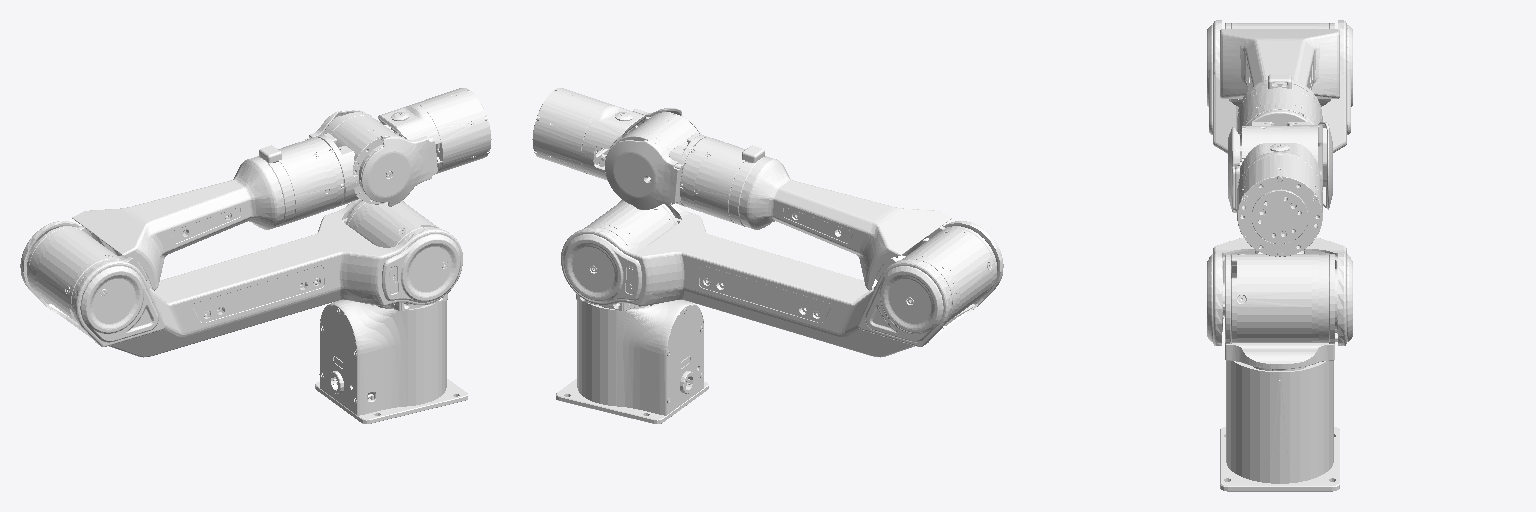
robot.urdf — piper_h_description:
<?xml version="1.0" encoding="utf-8"?>
<!-- This URDF was automatically created by SolidWorks to URDF Exporter! Originally created by [author] ([email redacted]) 
     Commit Version: 1.6.0-4-g7f85cfe  Build Version: 1.6.7995.38578
     For more information, please see http://wiki.ros.org/sw_urdf_exporter -->
<robot
  name="piper_h_description">
  <link
    name="base_link">
    <inertial>
      <origin
        xyz="-0.0116216679858881 4.15788440943184E-05 0.0410845423187343"
        rpy="0 0 0" />
      <mass
        value="0.17076936349368" />
      <inertia
        ixx="0.000228123208400866"
        ixy="1.38955464051488E-07"
        ixz="6.65141446336986E-06"
        iyy="0.00027812842789125"
        iyz="1.65175257145242E-07"
        izz="0.000229266732859796" />
    </inertial>
    <visual>
      <origin
        xyz="0 0 0"
        rpy="0 0 0" />
      <geometry>
        <mesh
          filename="package://piper_h_description/meshes/base_link.STL" />
      </geometry>
      <material
        name="">
        <color
          rgba="1 1 1 1" />
      </material>
    </visual>
    <collision>
      <origin
        xyz="0 0 0"
        rpy="0 0 0" />
      <geometry>
        <mesh
          filename="package://piper_h_description/meshes/base_link.STL" />
      </geometry>
    </collision>
  </link>
  <link
    name="Link1">
    <inertial>
      <origin
        xyz="0.000898972809391425 -0.0017128345134696 -0.00895795324198079"
        rpy="0 0 0" />
      <mass
        value="0.095130320813071" />
      <inertia
        ixx="3.89303819225542E-05"
        ixy="2.71827364740144E-07"
        ixz="1.78296584027163E-07"
        iyy="5.60153481205046E-05"
        iyz="1.02032883575856E-07"
        izz="4.65461363833488E-05" />
    </inertial>
    <visual>
      <origin
        xyz="0 0 0"
        rpy="0 0 0" />
      <geometry>
        <mesh
          filename="package://piper_h_description/meshes/Link1.STL" />
      </geometry>
      <material
        name="">
        <color
          rgba="1 1 1 1" />
      </material>
    </visual>
    <collision>
      <origin
        xyz="0 0 0"
        rpy="0 0 0" />
      <geometry>
        <mesh
          filename="package://piper_h_description/meshes/Link1.STL" />
      </geometry>
    </collision>
  </link>
  <joint
    name="joint1"
    type="revolute">
    <origin
      xyz="0 0 0.123"
      rpy="0 0 0" />
    <parent
      link="base_link" />
    <child
      link="Link1" />
    <axis
      xyz="0 0 1" />
    <limit
      lower="0"
      upper="0"
      effort="0"
      velocity="0" />
  </joint>
  <link
    name="Link2">
    <inertial>
      <origin
        xyz="0.175058051795962 -0.013263959401964 0.00160398731659567"
        rpy="0 0 0" />
      <mass
        value="0.297349969020434" />
      <inertia
        ixx="0.000164919085428283"
        ixy="6.39135842640096E-05"
        ixz="-1.43495991521534E-06"
        iyy="0.00163150429985587"
        iyz="-1.15776231590507E-06"
        izz="0.00168482164179664" />
    </inertial>
    <visual>
      <origin
        xyz="0 0 0"
        rpy="0 0 0" />
      <geometry>
        <mesh
          filename="package://piper_h_description/meshes/Link2.STL" />
      </geometry>
      <material
        name="">
        <color
          rgba="1 1 1 1" />
      </material>
    </visual>
    <collision>
      <origin
        xyz="0 0 0"
        rpy="0 0 0" />
      <geometry>
        <mesh
          filename="package://piper_h_description/meshes/Link2.STL" />
      </geometry>
    </collision>
  </link>
  <joint
    name="joint2"
    type="revolute">
    <origin
      xyz="0 0 0"
      rpy="1.5708 -0.13674 3.1416" />
    <parent
      link="Link1" />
    <child
      link="Link2" />
    <axis
      xyz="0 0 1" />
    <limit
      lower="0"
      upper="0"
      effort="0"
      velocity="0" />
  </joint>
  <link
    name="Link3">
    <inertial>
      <origin
        xyz="-0.00937198976084005 -0.116255702062803 -0.000655711046030733"
        rpy="0 0 0" />
      <mass
        value="0.139005088174055" />
      <inertia
        ixx="0.000138596904431255"
        ixy="-3.43992762936895E-07"
        ixz="3.78558835970272E-07"
        iyy="4.71404976476514E-05"
        iyz="9.97047138050079E-07"
        izz="0.000149219114996657" />
    </inertial>
    <visual>
      <origin
        xyz="0 0 0"
        rpy="0 0 0" />
      <geometry>
        <mesh
          filename="package://piper_h_description/meshes/Link3.STL" />
      </geometry>
      <material
        name="">
        <color
          rgba="1 1 1 1" />
      </material>
    </visual>
    <collision>
      <origin
        xyz="0 0 0"
        rpy="0 0 0" />
      <geometry>
        <mesh
          filename="package://piper_h_description/meshes/Link3.STL" />
      </geometry>
    </collision>
  </link>
  <joint
    name="joint3"
    type="revolute">
    <origin
      xyz="0.28508 0 0"
      rpy="0 0 -1.8796" />
    <parent
      link="Link2" />
    <child
      link="Link3" />
    <axis
      xyz="0 0 1" />
    <limit
      lower="0"
      upper="0"
      effort="0"
      velocity="0" />
  </joint>
  <link
    name="Link4">
    <inertial>
      <origin
        xyz="0.00120008498546645 0.00402105386550108 -0.00901261181081513"
        rpy="0 0 0" />
      <mass
        value="0.0625155037542606" />
      <inertia
        ixx="4.34001804299788E-05"
        ixy="-1.78247237961623E-07"
        ixz="7.9877981542642E-07"
        iyy="3.77270563878061E-05"
        iyz="3.92168392419924E-07"
        izz="3.65881057070137E-05" />
    </inertial>
    <visual>
      <origin
        xyz="0 0 0"
        rpy="0 0 0" />
      <geometry>
        <mesh
          filename="package://piper_h_description/meshes/Link4.STL" />
      </geometry>
      <material
        name="">
        <color
          rgba="1 1 1 1" />
      </material>
    </visual>
    <collision>
      <origin
        xyz="0 0 0"
        rpy="0 0 0" />
      <geometry>
        <mesh
          filename="package://piper_h_description/meshes/Link4.STL" />
      </geometry>
    </collision>
  </link>
  <joint
    name="joint4"
    type="revolute">
    <origin
      xyz="0 -0.25666 0"
      rpy="1.5708 0 0.17203" />
    <parent
      link="Link3" />
    <child
      link="Link4" />
    <axis
      xyz="-0.087161 0 0.99619" />
    <limit
      lower="0"
      upper="0"
      effort="0"
      velocity="0" />
  </joint>
  <link
    name="Link5">
    <inertial>
      <origin
        xyz="-9.76421424187524E-05 -0.0495078447416577 -0.0069183293653338"
        rpy="0 0 0" />
      <mass
        value="0.0683301439531726" />
      <inertia
        ixx="8.08932317895225E-05"
        ixy="2.20176838731191E-07"
        ixz="5.56694167592644E-08"
        iyy="4.13226227161016E-05"
        iyz="1.71025553076376E-05"
        izz="7.62573282419664E-05" />
    </inertial>
    <visual>
      <origin
        xyz="0 0 0"
        rpy="0 0 0" />
      <geometry>
        <mesh
          filename="package://piper_h_description/meshes/Link5.STL" />
      </geometry>
      <material
        name="">
        <color
          rgba="1 1 1 1" />
      </material>
    </visual>
    <collision>
      <origin
        xyz="0 0 0"
        rpy="0 0 0" />
      <geometry>
        <mesh
          filename="package://piper_h_description/meshes/Link5.STL" />
      </geometry>
    </collision>
  </link>
  <joint
    name="joint5"
    type="revolute">
    <origin
      xyz="0 0 0"
      rpy="-1.5708 -0.087272 0" />
    <parent
      link="Link4" />
    <child
      link="Link5" />
    <axis
      xyz="0 0 -1" />
    <limit
      lower="0"
      upper="0"
      effort="0"
      velocity="0" />
  </joint>
  <link
    name="Link6">
    <inertial>
      <origin
        xyz="0.0769862132705599 0.0288041655584747 -0.162335527696906"
        rpy="0 0 0" />
      <mass
        value="0.851169543242842" />
      <inertia
        ixx="0.00204979841659076"
        ixy="-3.46794622727557E-05"
        ixz="-0.000104197916276416"
        iyy="0.00210041391526329"
        iyz="-0.000112551398932383"
        izz="0.000469888685422321" />
    </inertial>
    <visual>
      <origin
        xyz="0 0 0"
        rpy="0 0 0" />
      <geometry>
        <mesh
          filename="package://piper_h_description/meshes/Link6.STL" />
      </geometry>
      <material
        name="">
        <color
          rgba="1 1 1 1" />
      </material>
    </visual>
    <collision>
      <origin
        xyz="0 0 0"
        rpy="0 0 0" />
      <geometry>
        <mesh
          filename="package://piper_h_description/meshes/Link6.STL" />
      </geometry>
    </collision>
  </link>
  <joint
    name="joint6"
    type="revolute">
    <origin
      xyz="0 -0.096 0"
      rpy="1.5708 0 0.087272" />
    <parent
      link="Link5" />
    <child
      link="Link6" />
    <axis
      xyz="-0.087161 0 0.99619" />
    <limit
      lower="0"
      upper="0"
      effort="0"
      velocity="0" />
  </joint>
</robot>

--- Render facts (derived) ---
The picture shows the robot from 3 angles, left to right: view 1: azimuth 30°, elevation 25°; view 2: azimuth 150°, elevation 25°; view 3: azimuth 270°, elevation 25°; orthographic projection.
Robot: piper_h_description — 7 links, 6 joints (6 revolute); root link base_link; default pose: every joint at zero.
Visible links, largest first — view 1: Link2, Link3, base_link, Link5, Link4, Link1; view 2: Link2, Link3, base_link, Link5, Link4, Link1; view 3: base_link, Link1, Link3, Link2, Link5, Link4, Link6.
Boxes of the visible links, x1,y1,x2,y2 form: Link2: [20, 199, 462, 357]; Link3: [27, 137, 343, 318]; base_link: [315, 300, 467, 423]; Link5: [359, 88, 491, 206]; Link4: [305, 110, 397, 205]; Link1: [346, 201, 447, 310]; Link2: [561, 200, 1003, 357]; Link3: [680, 137, 996, 318]; base_link: [556, 300, 708, 423]; Link5: [532, 88, 701, 180]; Link4: [605, 112, 706, 209]; Link1: [576, 200, 677, 310]; base_link: [1220, 361, 1339, 491]; Link1: [1225, 254, 1337, 370]; Link3: [1220, 23, 1339, 134]; Link2: [1207, 20, 1352, 345]; Link5: [1228, 127, 1322, 256]; Link4: [1240, 110, 1332, 209]; Link6: [1252, 189, 1307, 243].
Bounding box of the posed robot: 0.3816 × 0.097 × 0.2424 m (x, y, z).
Meshes: 7 distinct files referenced, 7 mesh visuals loaded (7 binary STL).
